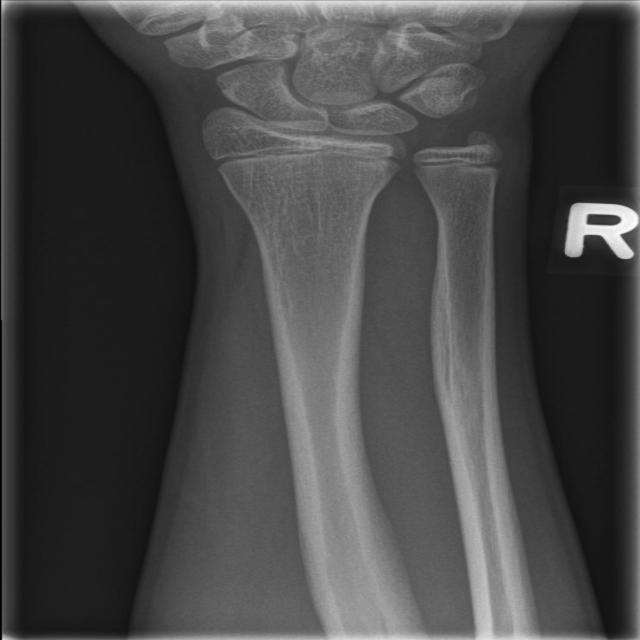fracture: (193, 128, 414, 184), (398, 142, 512, 181)
